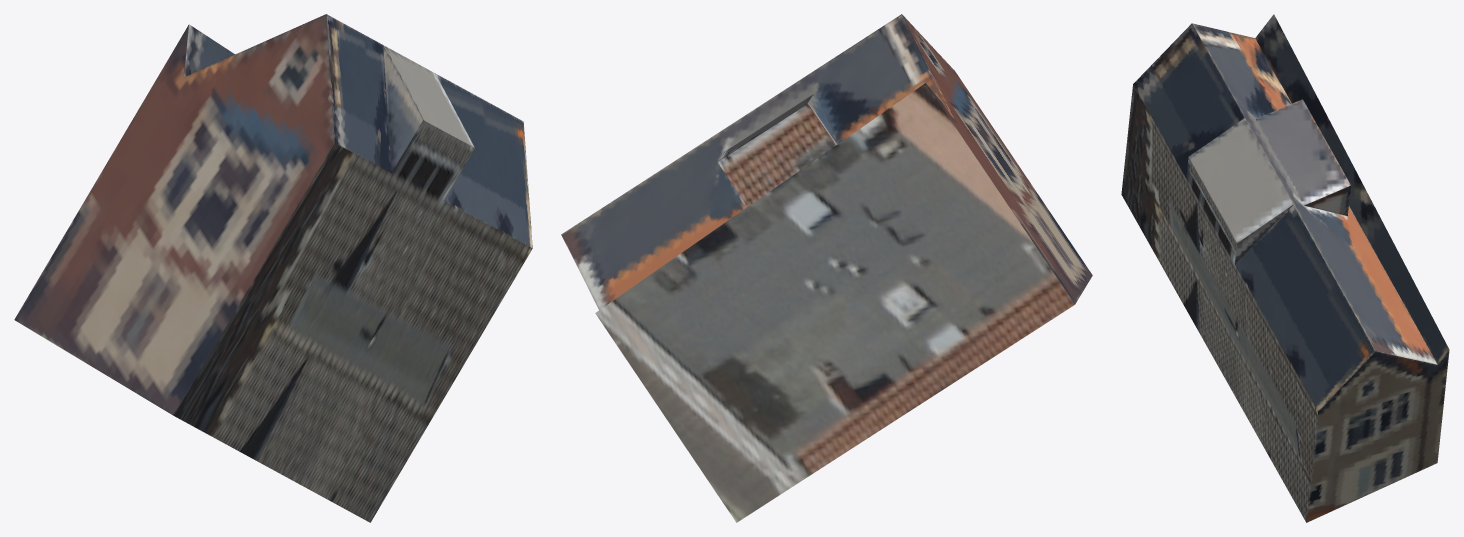
The picture shows the model from 3 angles, left to right: view 1: azimuth 30°, elevation 25°; view 2: azimuth 150°, elevation 25°; view 3: azimuth 270°, elevation 25°; orthographic projection. The views are drawn at different scales.
Parts seen in each view (by area): view 1: BAG_0599100000656924 (×3); view 2: BAG_0599100000656924 (×2); view 3: BAG_0599100000656924 (×4).
Part boxes in pixels (<box>): BAG_0599100000656924 (×3): <box>14,14,532,522</box>; BAG_0599100000656924 (×2): <box>561,14,1092,522</box>; BAG_0599100000656924 (×4): <box>1121,14,1449,522</box>.
Size of the model in its own units: 15.82 by 15.34 by 10.02.
4 materials, 4 textured.
